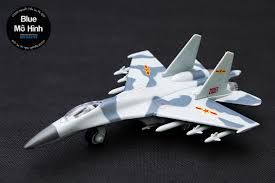maybay_muctieu: (27, 44, 256, 149)
